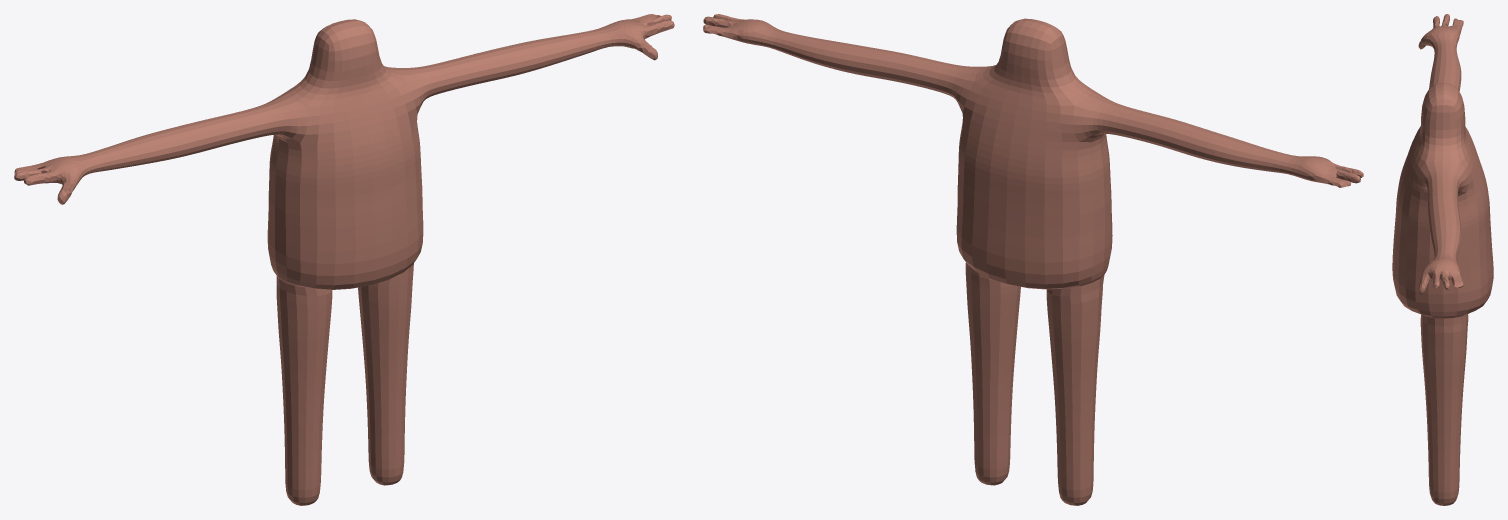
File: Body.glb
3 views of the same model, side by side, from view 1: azimuth 30°, elevation 25°; view 2: azimuth 150°, elevation 25°; view 3: azimuth 270°, elevation 25° (orthographic). The views are drawn at different scales.
Parts seen in each view (by area): view 1: BaseBody; view 2: BaseBody; view 3: BaseBody.
Part boxes in pixels (x1,y1,x2,y2): BaseBody: [14, 14, 674, 505]; BaseBody: [703, 14, 1363, 505]; BaseBody: [1392, 14, 1493, 505].
Size of the model in its own units: 2.76 by 1.89 by 0.4341.
